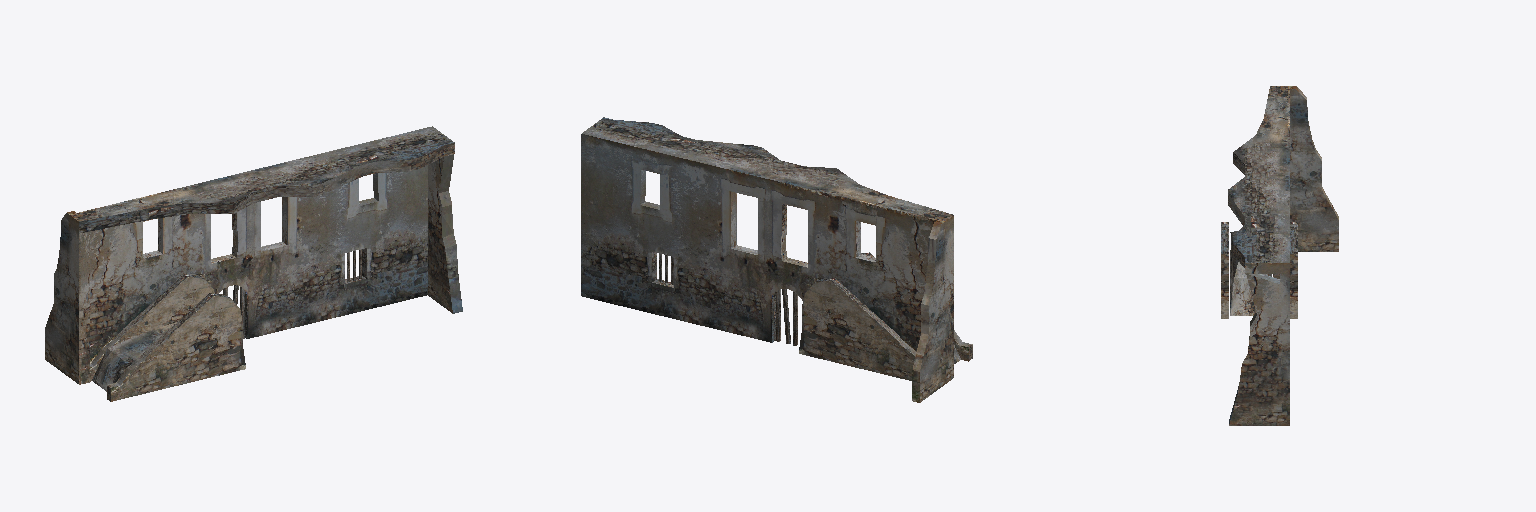
The picture shows the model from 3 angles: view 1: azimuth 30°, elevation 25°; view 2: azimuth 150°, elevation 25°; view 3: azimuth 270°, elevation 25°; orthographic projection.
Visible parts, largest first — view 1: worn_torn11; view 2: worn_torn11; view 3: worn_torn11.
Boxes of the visible parts, x1,y1,x2,y2 form: worn_torn11: [45, 126, 462, 401]; worn_torn11: [581, 117, 972, 402]; worn_torn11: [1221, 86, 1338, 425].
Bounding box in the file's own units: 490 × 211 × 139.
Materials: 1 (1 with a texture image).